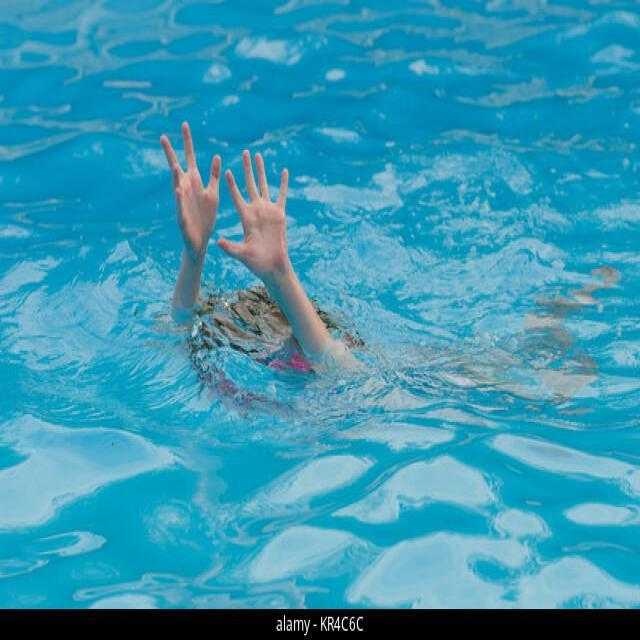Drowning: (152, 119, 385, 391)
